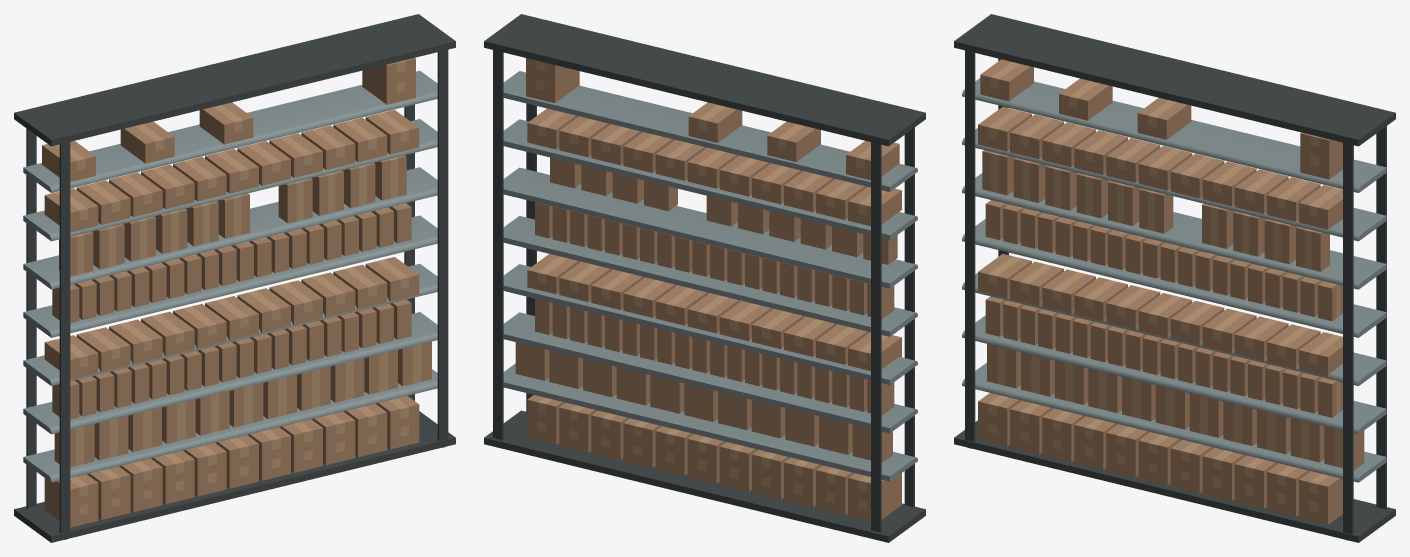
Rendered from Archive-Bookshelf-3.fbx.
3 renders of one model, left to right at view 1: azimuth 30°, elevation 25°; view 2: azimuth 150°, elevation 25°; view 3: azimuth 330°, elevation 25°, orthographic.
Parts seen in each view (by area): view 1: Archive-Bookshelf-3, Parcel-1.442, Parcel-1.441, Parcel-1.385, Parcel-1.386, Parcel-1.378, Parcel-1.356, Parcel-1.381, Parcel-1.387, Parcel-1.347, Parcel-1.354, Parcel-1.380 (+99 smaller); view 2: Archive-Bookshelf-3, Parcel-1.442, Parcel-1.441, Parcel-1.377, Parcel-1.352, Parcel-1.382, Parcel-1.383, Parcel-1.353, Parcel-1.387, Parcel-1.385, Parcel-1.350, Parcel-1.356 (+99 smaller); view 3: Archive-Bookshelf-3, Parcel-1.442, Parcel-1.440, Parcel-1.441, Parcel-1.387, Parcel-1.356, Parcel-1.381, Parcel-1.382, Parcel-1.378, Parcel-1.354, Parcel-1.384, Parcel-1.385 (+99 smaller).
Boxes of the visible parts, <box> form: Archive-Bookshelf-3: <box>14,14,455,542</box>; Parcel-1.442: <box>199,102,253,144</box>; Parcel-1.441: <box>120,121,174,163</box>; Parcel-1.385: <box>301,125,355,170</box>; Parcel-1.386: <box>333,117,387,162</box>; Parcel-1.378: <box>76,180,130,224</box>; Parcel-1.356: <box>365,257,419,301</box>; Parcel-1.381: <box>173,157,226,201</box>; Parcel-1.387: <box>365,109,419,154</box>; Parcel-1.347: <box>76,327,130,371</box>; Parcel-1.354: <box>301,272,355,317</box>; Parcel-1.380: <box>141,164,194,209</box>; Archive-Bookshelf-3: <box>484,14,925,542</box>; Parcel-1.442: <box>688,102,742,142</box>; Parcel-1.441: <box>767,121,820,162</box>; Parcel-1.377: <box>848,187,901,226</box>; Parcel-1.352: <box>655,285,708,325</box>; Parcel-1.382: <box>687,147,738,188</box>; Parcel-1.383: <box>655,140,706,180</box>; Parcel-1.353: <box>623,277,677,317</box>; Parcel-1.387: <box>527,108,578,149</box>; Parcel-1.385: <box>591,124,642,165</box>; Parcel-1.350: <box>719,301,773,341</box>; Parcel-1.356: <box>527,254,580,294</box>; Archive-Bookshelf-3: <box>954,14,1395,542</box>; Parcel-1.442: <box>1137,98,1191,139</box>; Parcel-1.440: <box>980,59,1033,101</box>; Parcel-1.441: <box>1059,78,1112,120</box>; Parcel-1.387: <box>1299,185,1342,229</box>; Parcel-1.356: <box>1299,332,1342,376</box>; Parcel-1.381: <box>1106,138,1160,182</box>; Parcel-1.382: <box>1138,146,1192,190</box>; Parcel-1.378: <box>1010,114,1063,159</box>; Parcel-1.354: <box>1234,316,1288,361</box>; Parcel-1.384: <box>1202,161,1256,206</box>; Parcel-1.385: <box>1234,169,1288,213</box>.
Bounding box in the file's own units: 8.22 × 7.84 × 1.31.
